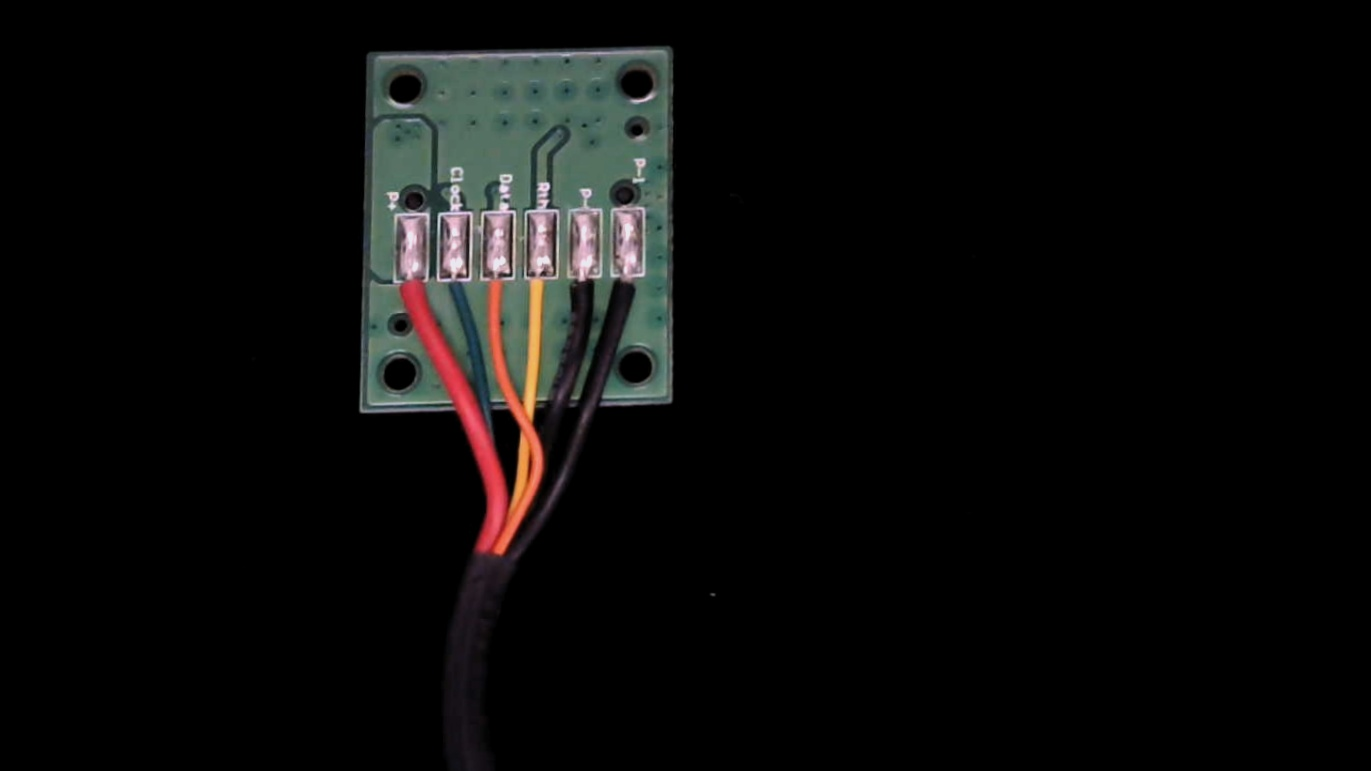Black: (565, 256, 603, 330)
Black1: (609, 259, 648, 332)
Green: (437, 261, 473, 327)
Orange: (480, 257, 514, 326)
Red: (394, 262, 430, 334)
Yellow: (523, 255, 559, 329)
